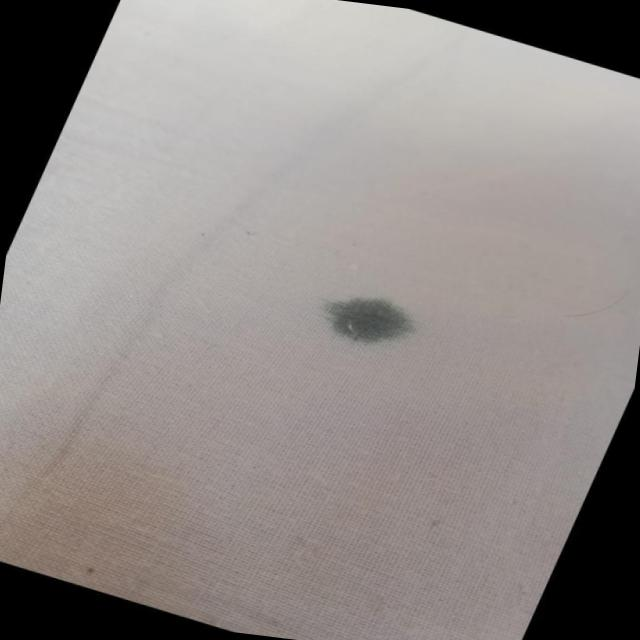stain: (306, 277, 424, 362)
